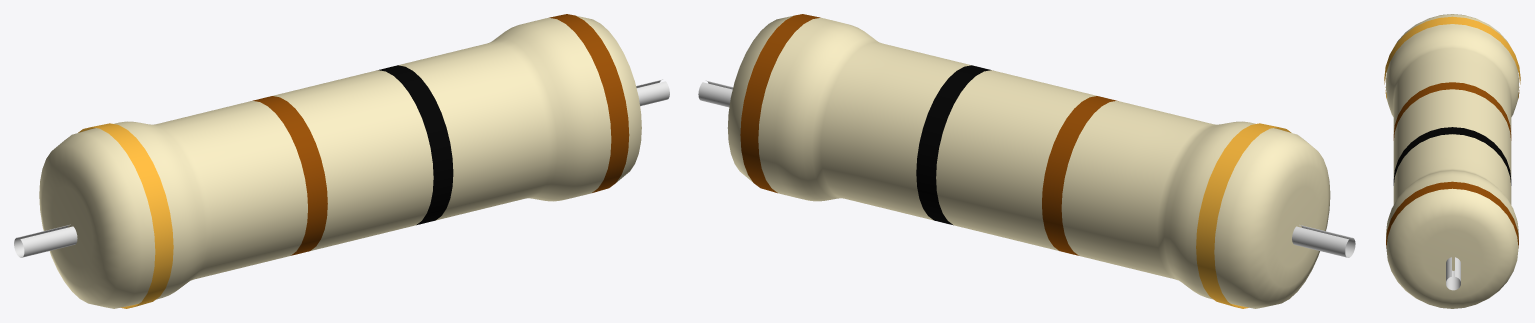
The model's file is Register 2.fbx.
3 renders of one model, left to right at view 1: azimuth 30°, elevation 25°; view 2: azimuth 150°, elevation 25°; view 3: azimuth 270°, elevation 25°, orthographic. The views are drawn at different scales.
Parts seen in each view (by area): view 1: Cylinder.031; view 2: Cylinder.031; view 3: Cylinder.031.
Part boxes in pixels (<box>): Cylinder.031: <box>14,14,669,308</box>; Cylinder.031: <box>698,14,1355,308</box>; Cylinder.031: <box>1384,14,1520,308</box>.
Size of the model in its own units: 63.7 by 15.89 by 15.89.
